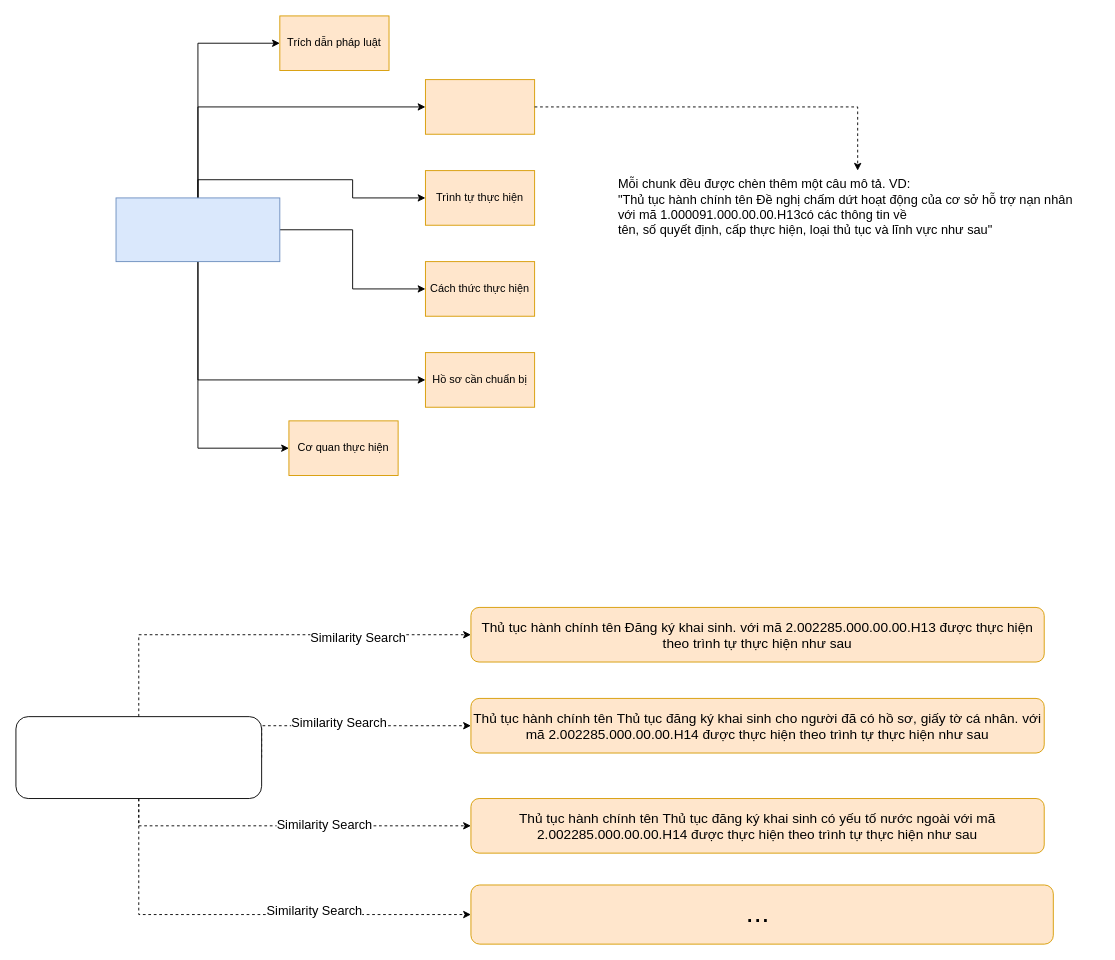
The diagram is 1115 pixels wide and 960 high, and some of its shapes have lost their labels. The shapes that lost their labels are listed below. From the top down, each one's box as (x1, y1, x2, y2) in pixels, then its label:
(425, 79, 535, 134): Thông tin chung
(115, 197, 280, 262): Thủ tục đăng ký giấy khai sinh
(15, 716, 262, 799): Cần làm gì để đăng ký khai sinh cho con ?
